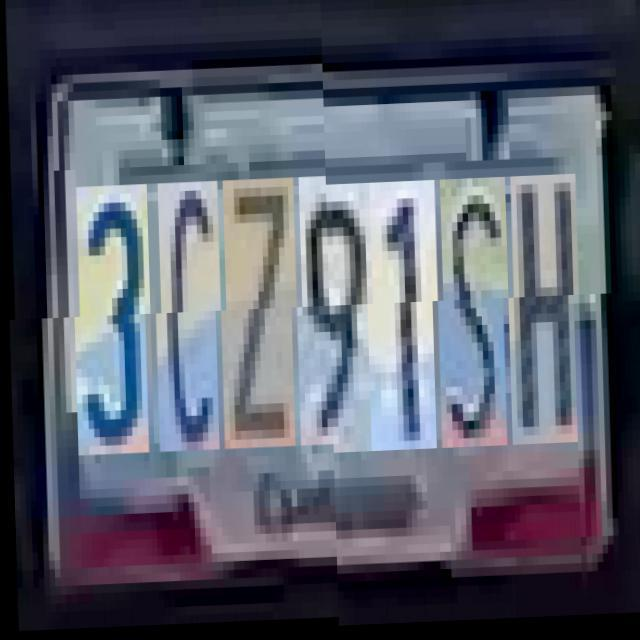1: (368, 184, 439, 454)
3: (76, 195, 152, 464)
9: (298, 186, 374, 456)
C: (156, 192, 222, 462)
H: (510, 179, 580, 449)
S: (439, 182, 510, 452)
Z: (222, 189, 298, 459)
